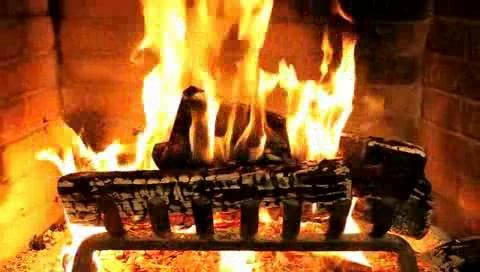fire: (125, 0, 356, 171)
